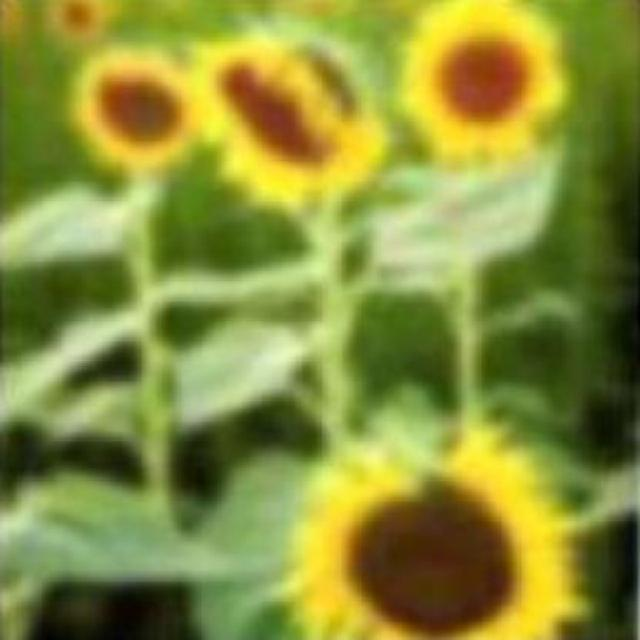sunflower: (283, 431, 577, 640), (397, 0, 568, 163)
